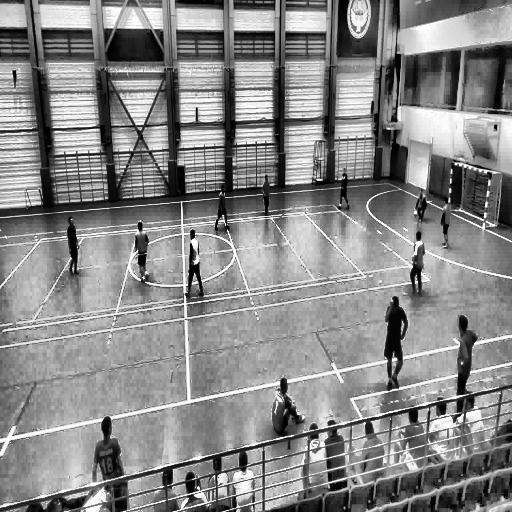player: (95, 415, 128, 501), (272, 377, 304, 450), (384, 294, 408, 390), (456, 314, 478, 399), (185, 229, 205, 297), (410, 230, 426, 296), (134, 220, 150, 283), (67, 216, 80, 276), (214, 182, 230, 230), (439, 196, 452, 248), (414, 188, 428, 224), (338, 170, 350, 210), (262, 174, 270, 216)
